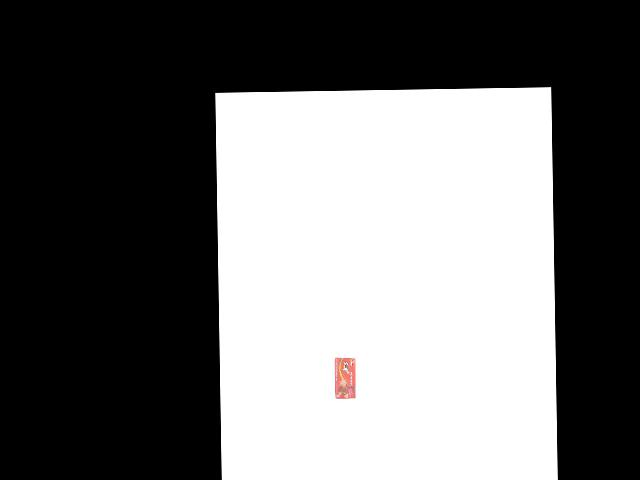chocolate: (332, 355, 355, 399)
